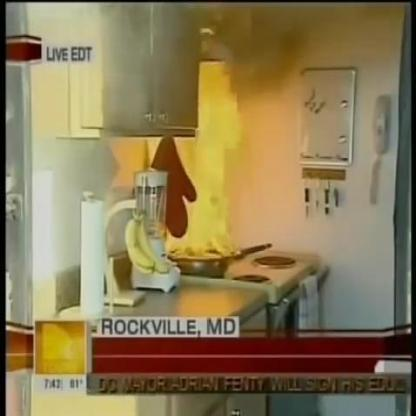fire: (168, 94, 238, 256)
